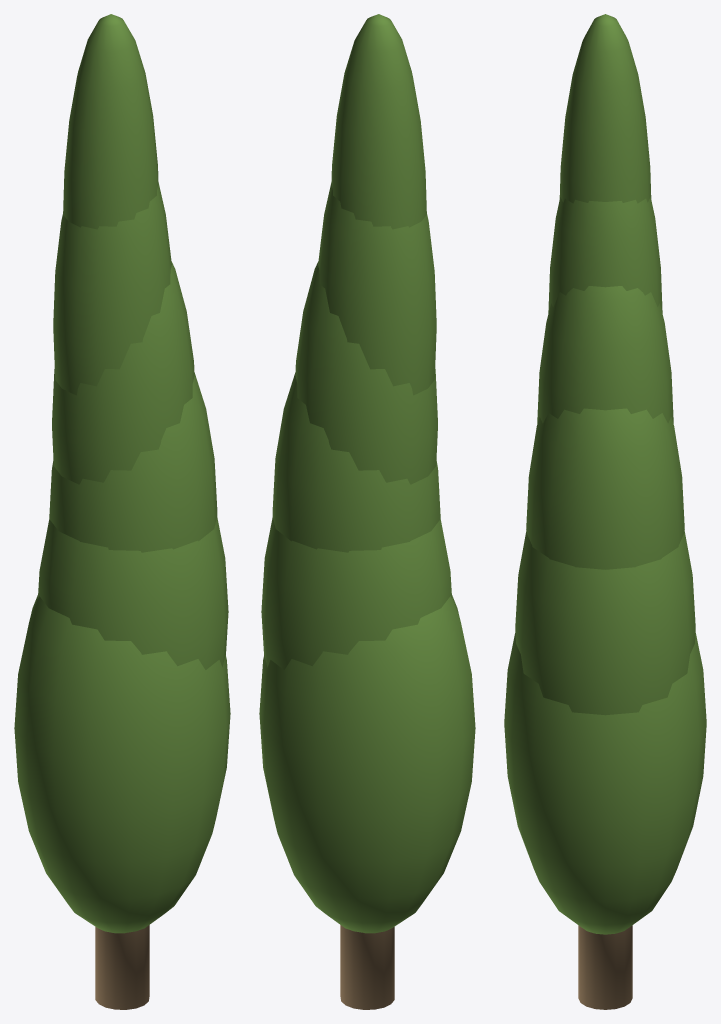
The model's file is cypress.glb.
3 views of the same model, side by side, from view 1: azimuth 30°, elevation 25°; view 2: azimuth 150°, elevation 25°; view 3: azimuth 270°, elevation 25° (orthographic).
Visible parts, largest first — view 1: Cypress_crown, Cypress_crown.001, Cypress_crown.004, Cypress_crown.005, Cypress_crown.003, Cypress_crown.002, Cypress_trunk; view 2: Cypress_crown, Cypress_crown.001, Cypress_crown.004, Cypress_crown.005, Cypress_crown.003, Cypress_crown.002, Cypress_trunk; view 3: Cypress_crown, Cypress_crown.001, Cypress_crown.002, Cypress_crown.003, Cypress_crown.005, Cypress_crown.004, Cypress_trunk.
Part boxes in pixels (<box>): Cypress_crown: <box>14,595,230,933</box>; Cypress_crown.001: <box>38,516,228,669</box>; Cypress_crown.004: <box>53,183,171,395</box>; Cypress_crown.005: <box>63,14,158,229</box>; Cypress_crown.003: <box>52,262,194,484</box>; Cypress_crown.002: <box>49,373,217,552</box>; Cypress_trunk: <box>95,925,149,1009</box>; Cypress_crown: <box>259,595,475,933</box>; Cypress_crown.001: <box>261,516,451,669</box>; Cypress_crown.004: <box>318,183,436,395</box>; Cypress_crown.005: <box>331,14,426,229</box>; Cypress_crown.003: <box>295,262,437,484</box>; Cypress_crown.002: <box>272,373,440,552</box>; Cypress_trunk: <box>340,925,394,1009</box>; Cypress_crown: <box>504,633,706,934</box>; Cypress_crown.001: <box>515,532,695,715</box>; Cypress_crown.002: <box>526,408,684,569</box>; Cypress_crown.003: <box>537,286,673,423</box>; Cypress_crown.005: <box>559,14,651,203</box>; Cypress_crown.004: <box>548,197,662,313</box>; Cypress_trunk: <box>578,925,632,1009</box>.
Size of the model in its own units: 1.3 by 6.4 by 1.2.
